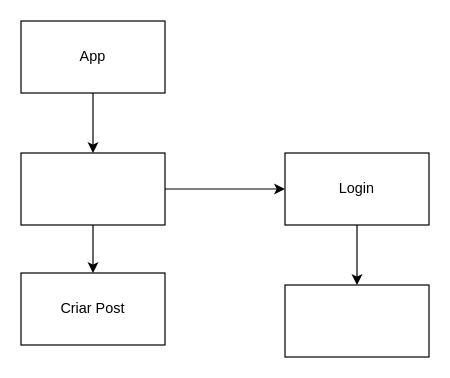
Image size: 450x378. Some labels were removed from this diagram. Here are the shapes that lost their labels. From the top down, the centre of each, then its label:
At point 92,188: "Feed".
At point 356,320: "Cadastro".
